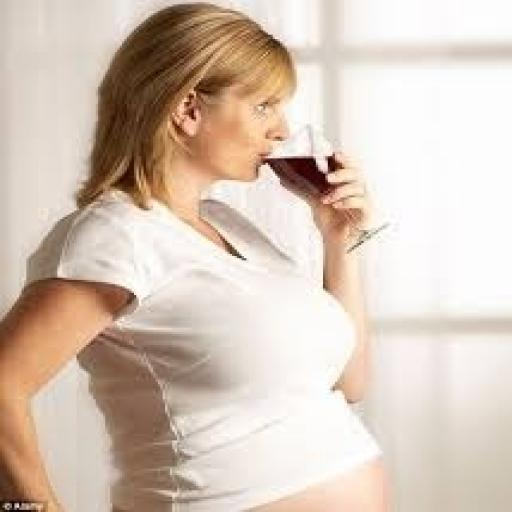drinking: (65, 4, 485, 276)
